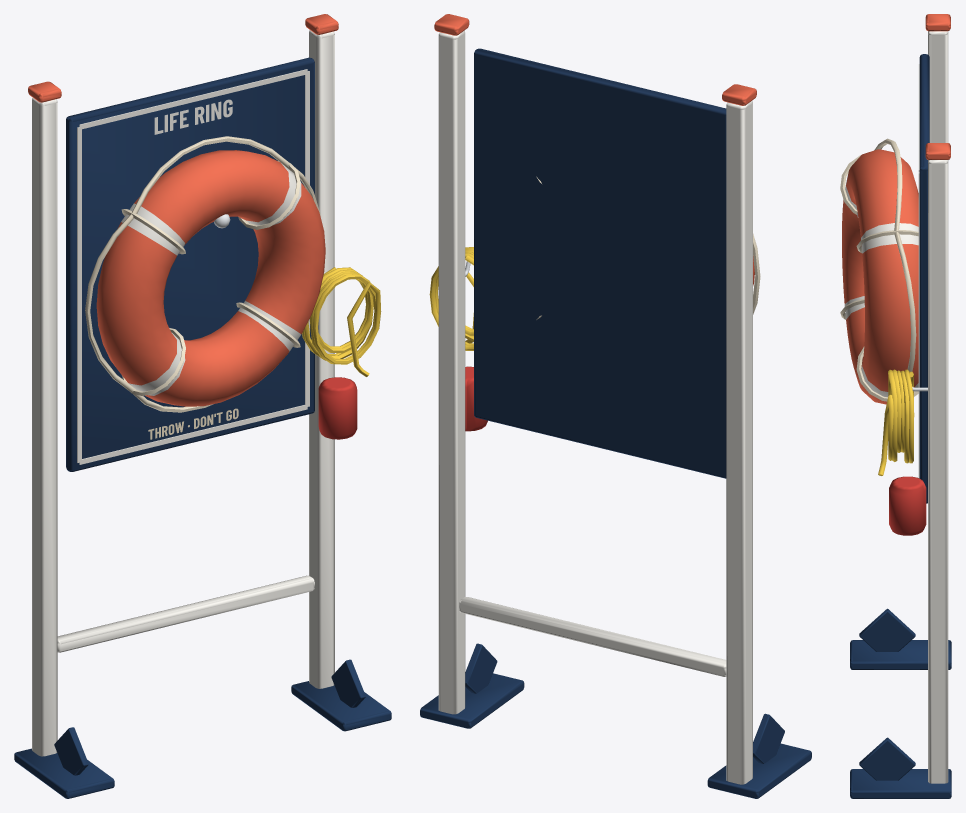
The model's file is life_ring_stand.glb.
3 views of the same model, side by side, from view 1: azimuth 30°, elevation 25°; view 2: azimuth 150°, elevation 25°; view 3: azimuth 270°, elevation 25° (orthographic). The views are drawn at different scales.
Parts seen in each view (by area): view 1: LifeRingStandMesh, LifeRing; view 2: LifeRingStandMesh; view 3: LifeRingStandMesh, LifeRing.
Boxes of the visible parts, x1,y1,x2,y2 form: LifeRingStandMesh: [14, 14, 391, 798]; LifeRing: [85, 136, 325, 412]; LifeRingStandMesh: [420, 14, 811, 798]; LifeRingStandMesh: [850, 14, 951, 798]; LifeRing: [840, 138, 918, 404].
Bounding box in the file's own units: 1.09 × 2.09 × 0.3293.
